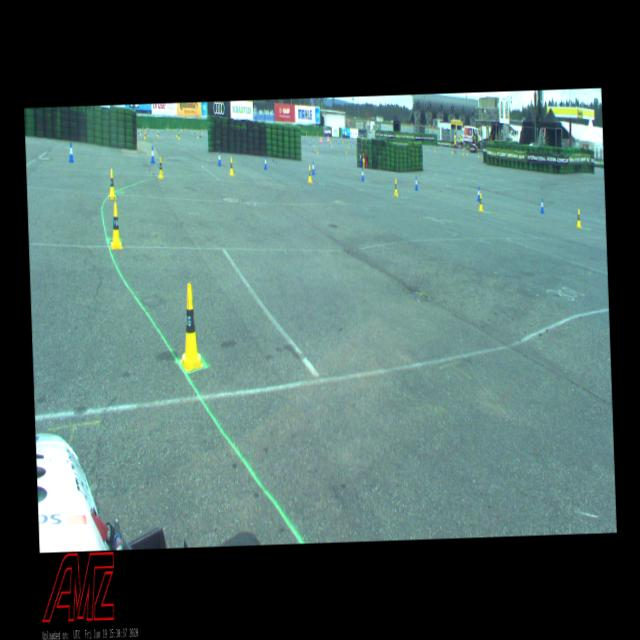blue_cone: (68, 142, 74, 162), (150, 146, 154, 162), (540, 198, 544, 212), (414, 175, 417, 189), (476, 187, 479, 200), (361, 167, 364, 180), (218, 151, 220, 165), (264, 155, 266, 168), (312, 160, 314, 173), (359, 152, 361, 160), (198, 131, 200, 137)
yellow_cone: (176, 282, 204, 370), (108, 202, 121, 248), (107, 168, 116, 198), (157, 156, 163, 178), (575, 208, 581, 228), (228, 158, 233, 175), (393, 178, 398, 195), (478, 193, 482, 210), (308, 166, 312, 182), (175, 130, 178, 137), (178, 130, 180, 140), (362, 152, 364, 161), (139, 128, 141, 135), (156, 130, 158, 136), (316, 148, 318, 154), (345, 147, 347, 153), (196, 132, 198, 137), (144, 132, 145, 139), (348, 143, 349, 148)
